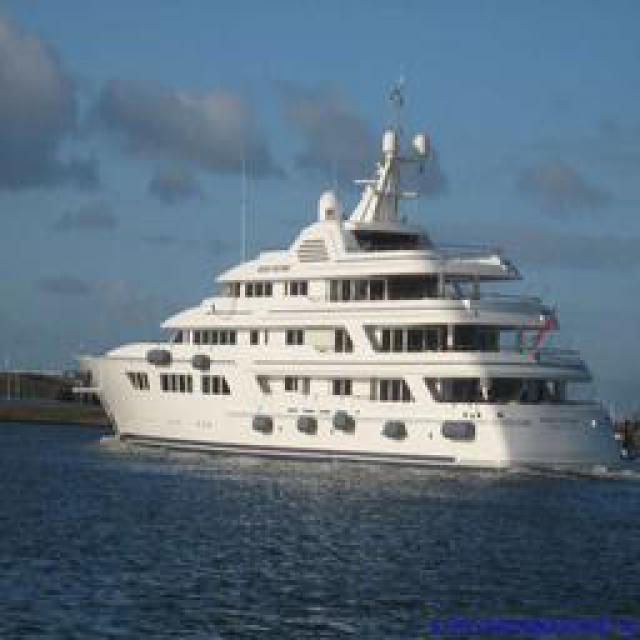Ship: (83, 105, 621, 473)
